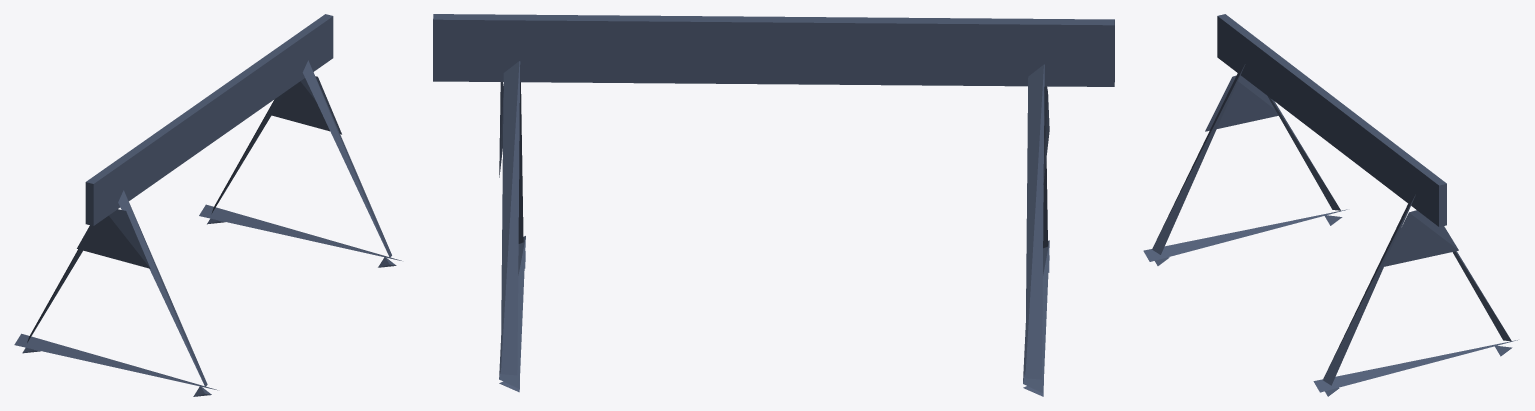
The model's file is police-barrier.lod2.glb.
The picture shows the model from 3 angles, left to right: view 1: azimuth 30°, elevation 25°; view 2: azimuth 150°, elevation 25°; view 3: azimuth 270°, elevation 25°; orthographic projection. The views are drawn at different scales.
Parts seen in each view (by area): view 1: Cube_Material.001_0; view 2: Cube_Material.001_0; view 3: Cube_Material.001_0.
Part boxes in pixels (box(x1,y1,x2,y2)): Cube_Material.001_0: box(14, 14, 401, 396); Cube_Material.001_0: box(433, 14, 1114, 396); Cube_Material.001_0: box(1143, 14, 1517, 396).
Size of the model in its own units: 1.98 by 1.05 by 1.73.
